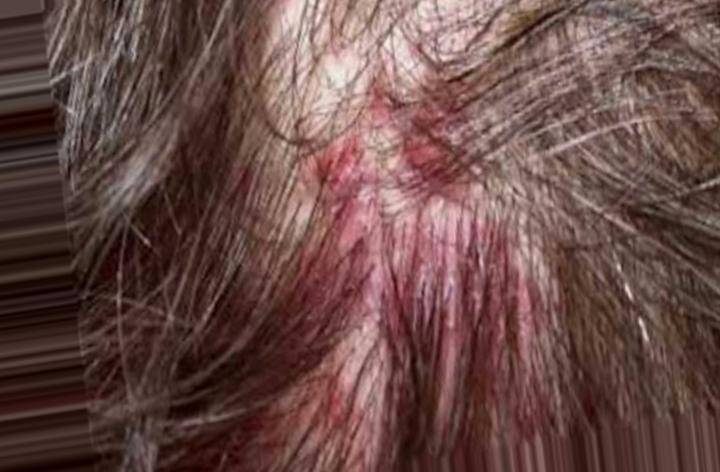Folliculitis: (269, 54, 511, 243), (305, 381, 361, 427)
